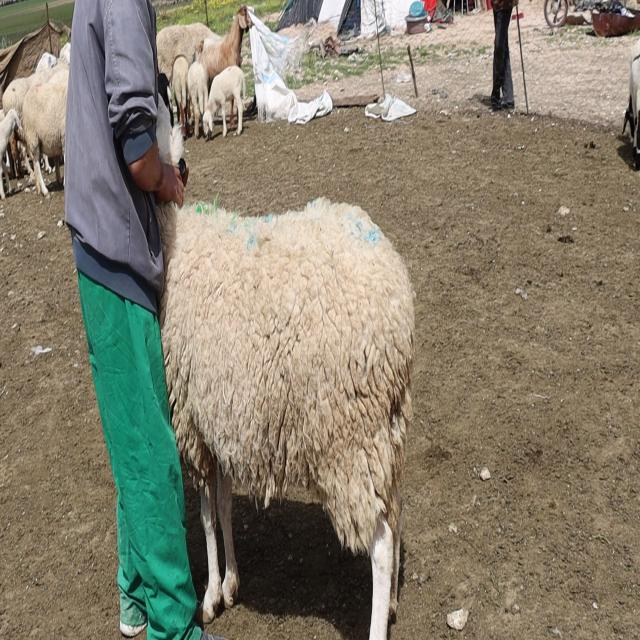Score_2: (158, 198, 415, 639)
